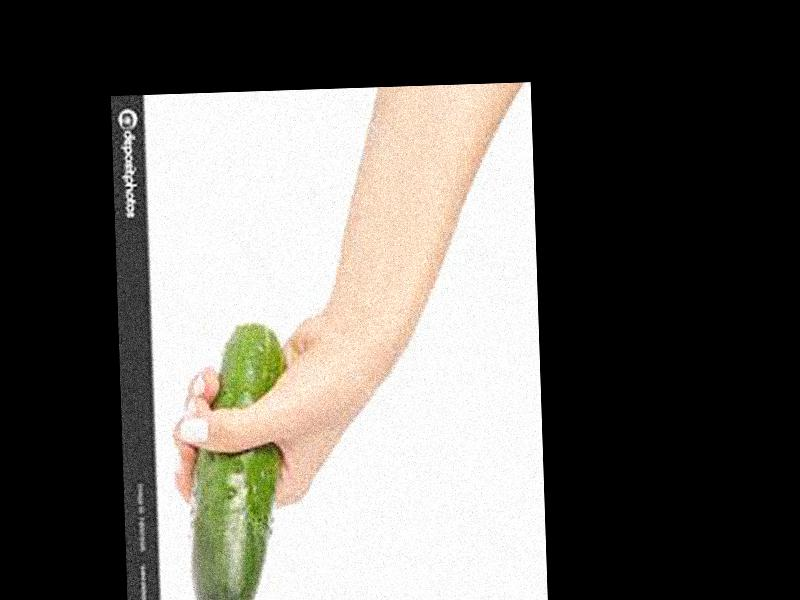Cucumber: (183, 324, 294, 600)
